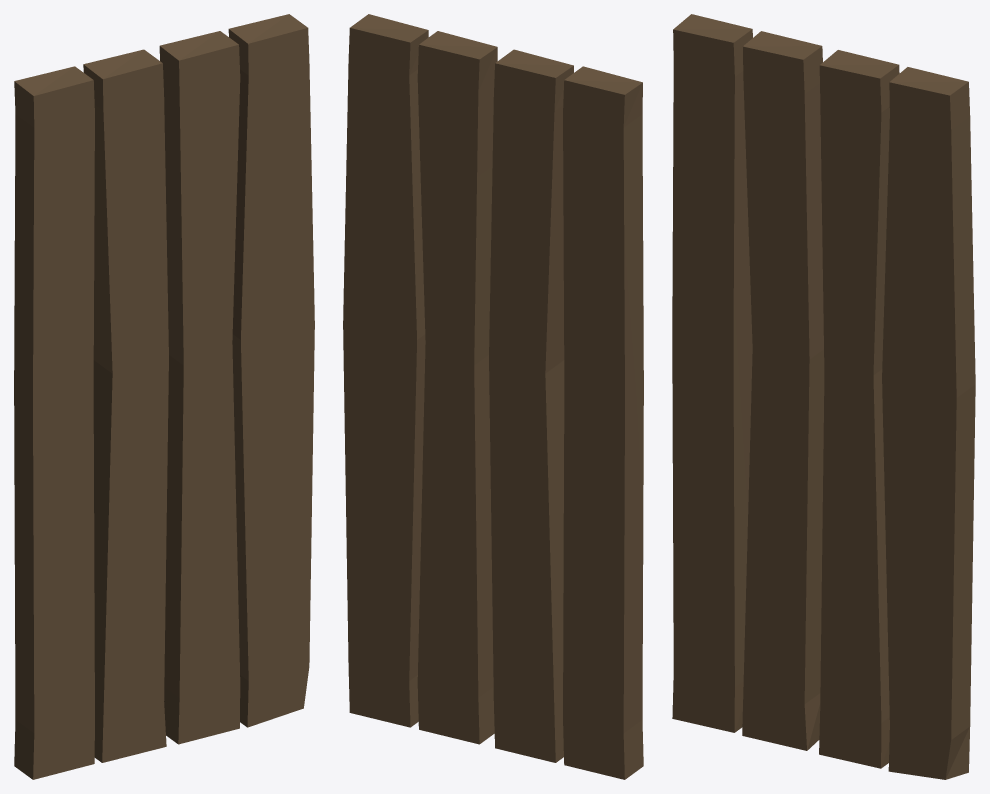
The model's file is adventure_SM_Bld_HutDoor_01.gltf.
3 views of the same model, side by side, from view 1: azimuth 30°, elevation 25°; view 2: azimuth 150°, elevation 25°; view 3: azimuth 330°, elevation 25° (orthographic).
Parts seen in each view (by area): view 1: SM_Bld_HutDoor_01; view 2: SM_Bld_HutDoor_01; view 3: SM_Bld_HutDoor_01.
Boxes of the visible parts, x1,y1,x2,y2 form: SM_Bld_HutDoor_01: [14, 14, 314, 779]; SM_Bld_HutDoor_01: [343, 14, 643, 779]; SM_Bld_HutDoor_01: [672, 14, 975, 779].
Size of the model in its own units: 0.8239 by 1.91 by 0.0954.
Materials: 1 (1 with a texture image).
